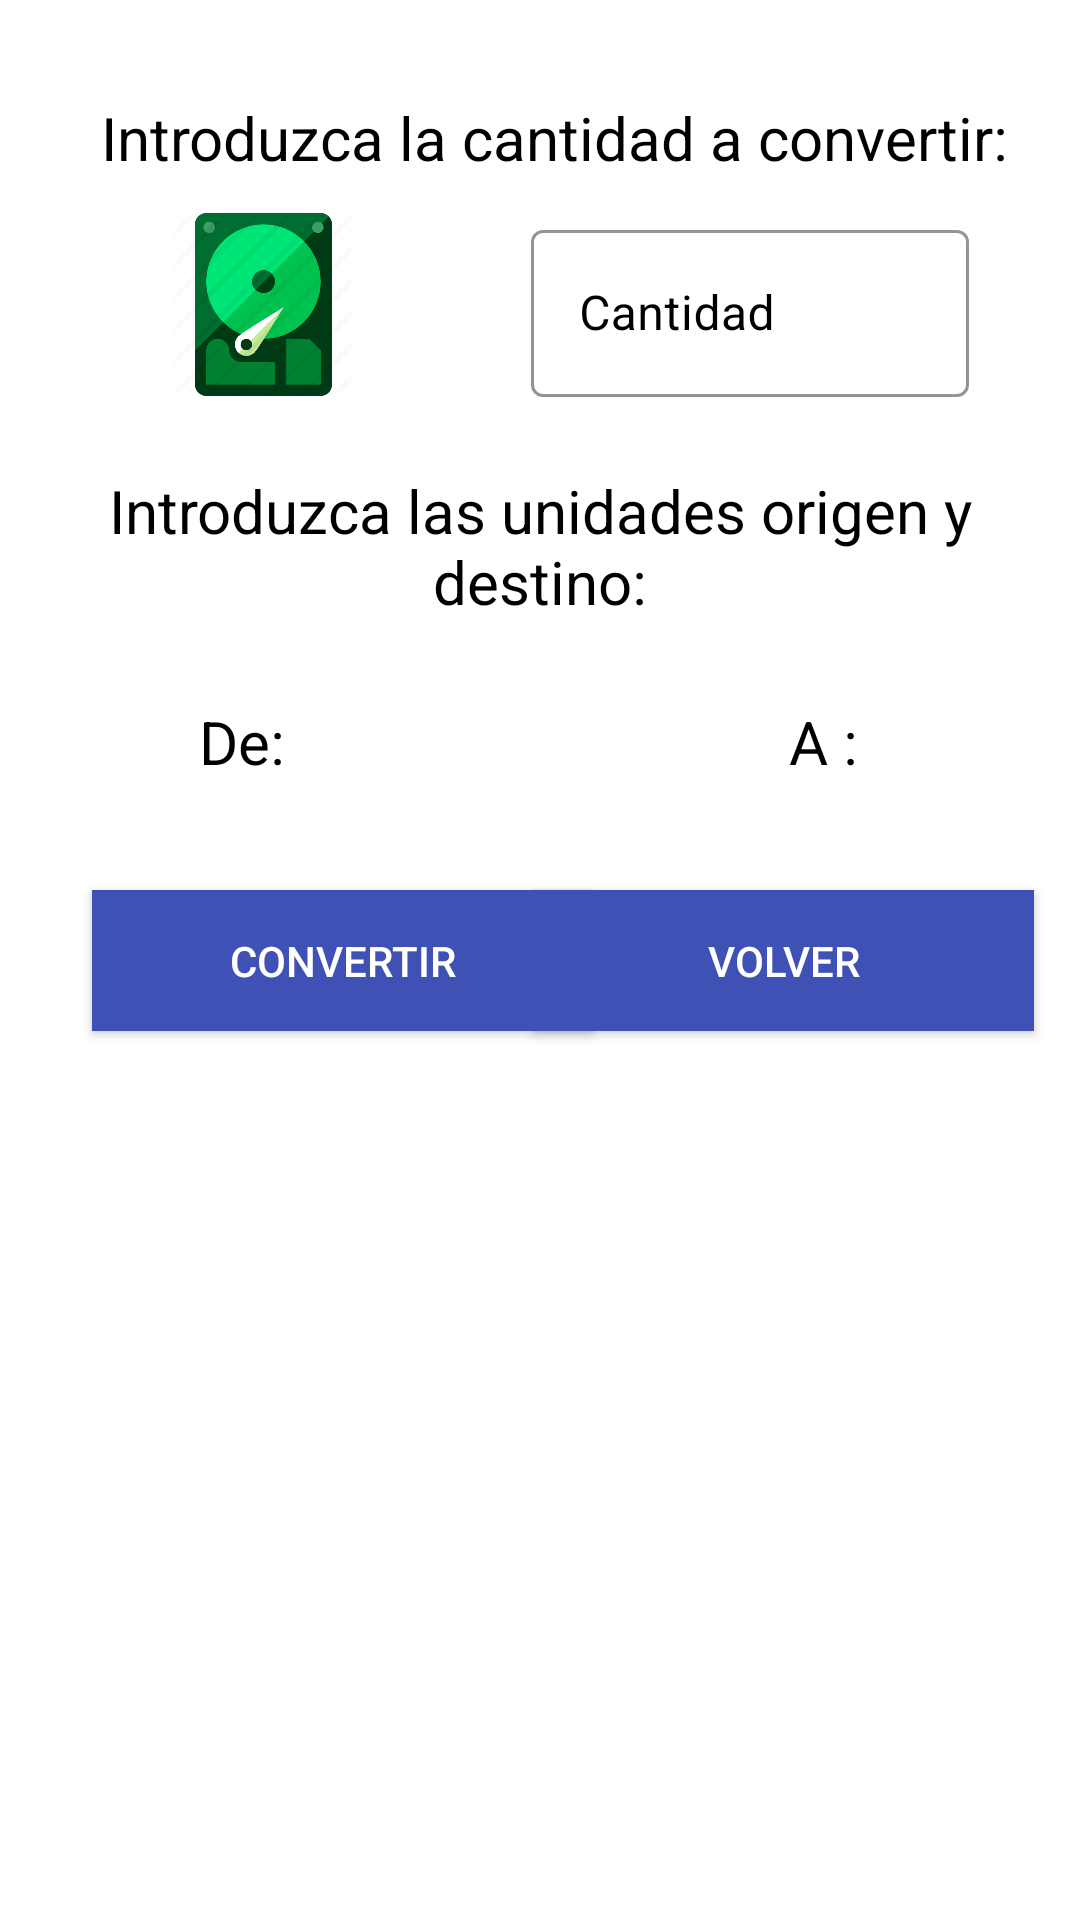

Where to tap for icons on this 1080px×1920px app screen, as point (x, y):
bytes: point (263, 304)
